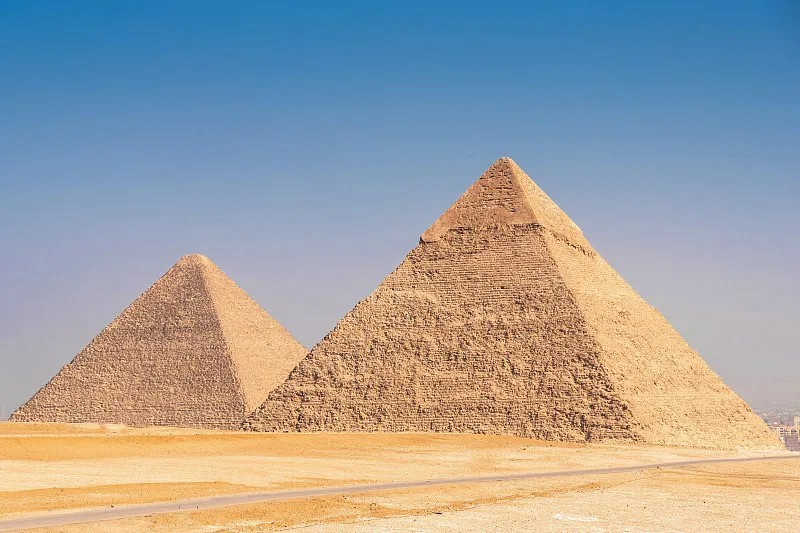Pyramid: (235, 156, 788, 447), (8, 255, 310, 435)
